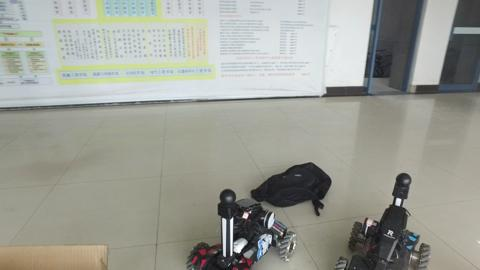bag: (252, 155, 336, 213)
chariot: (180, 188, 299, 268), (340, 172, 431, 269)
